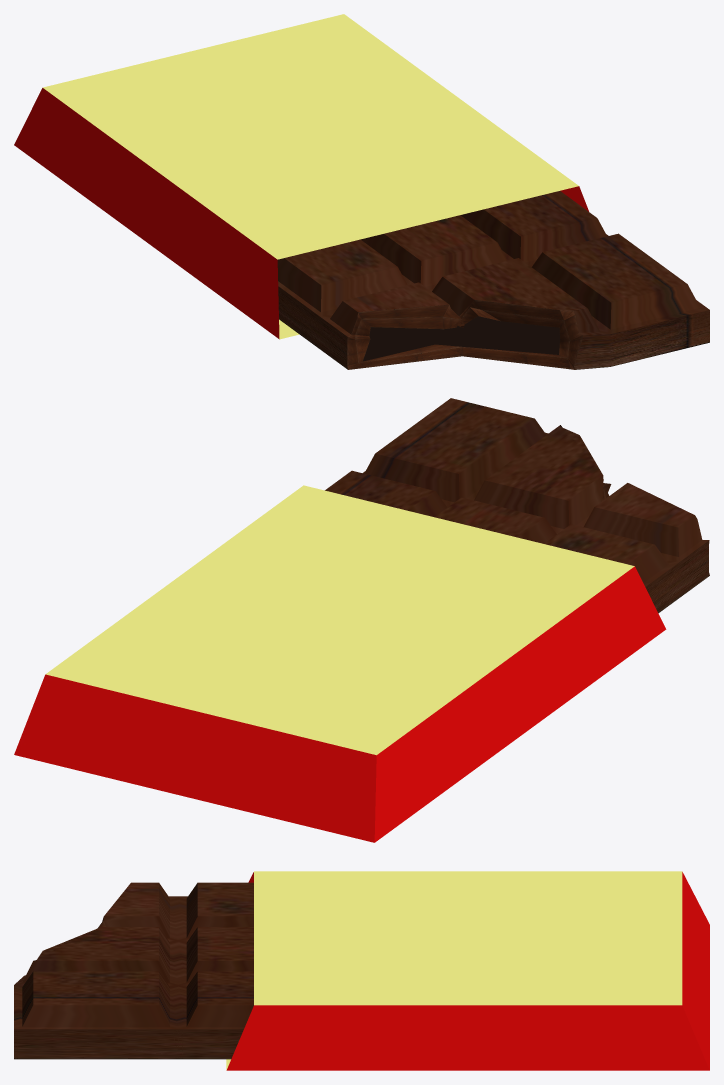
File: chocolateMordido.fbx
3 views of the same model, one above another, from view 1: azimuth 30°, elevation 25°; view 2: azimuth 150°, elevation 25°; view 3: azimuth 270°, elevation 25° (orthographic). The views are drawn at different scales.
Visible parts, largest first — view 1: pCube2, pCube1; view 2: pCube2, pCube1; view 3: pCube2, pCube1.
Part boxes in pixels (box(x1,y1,x2,y2)): pCube2: box(14, 14, 588, 339); pCube1: box(277, 191, 709, 369); pCube2: box(14, 485, 666, 842); pCube1: box(325, 398, 709, 613); pCube2: box(226, 871, 709, 1070); pCube1: box(14, 882, 253, 1059).
Bounding box in the file's own units: 4.2 × 0.7997 × 8.47.
